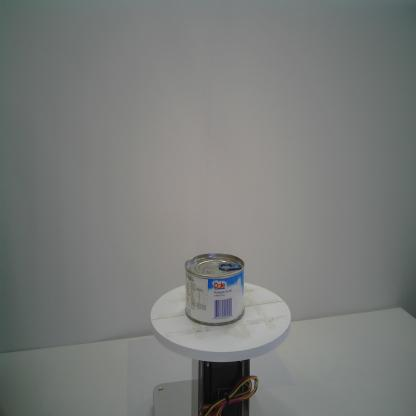Canned Food: (184, 253, 246, 328)
